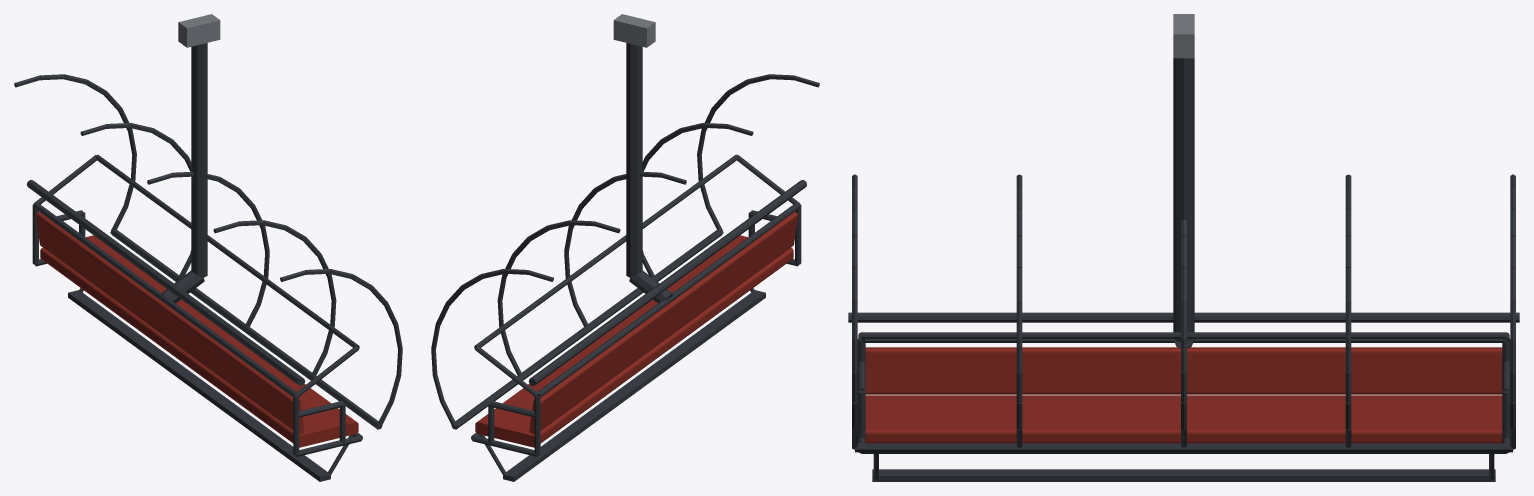
Rendered from chair_8pack_bubble.obj.
3 views of the same model, side by side, from view 1: azimuth 30°, elevation 25°; view 2: azimuth 150°, elevation 25°; view 3: azimuth 270°, elevation 25° (orthographic). The views are drawn at different scales.
Size of the model in its own units: 1.31 by 3.78 by 5.06.
